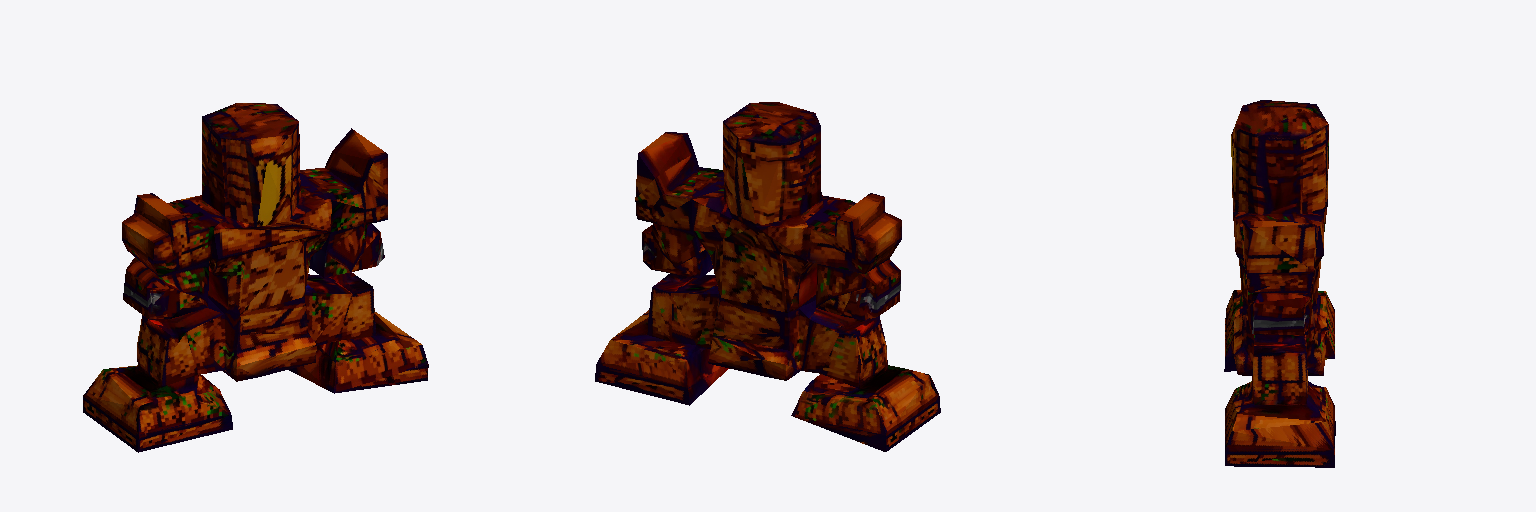
3 renders of one model, left to right at view 1: azimuth 30°, elevation 25°; view 2: azimuth 150°, elevation 25°; view 3: azimuth 270°, elevation 25°, orthographic.
Parts seen in each view (by area): view 1: ai_model; view 2: ai_model; view 3: ai_model.
Boxes of the visible parts, box(x1,y1,x2,y2) form: ai_model: box(83, 103, 428, 452); ai_model: box(595, 102, 940, 451); ai_model: box(1224, 100, 1335, 467).
Size of the model in its own units: 0.7486 by 0.6956 by 0.2473.
1 materials, 1 textured.